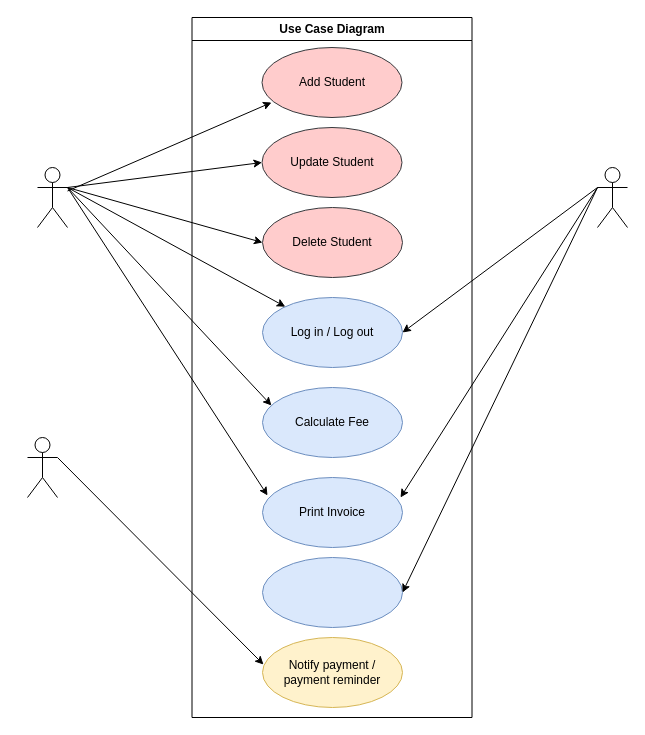
Image size: 645x735. Some labels were removed from this diagram. The centre of each missing label's shape, as x and y in pixels:
"Pay invoice" belongs at point 332,592.
"School Administrator" belongs at point 52,197.
"System" belongs at point 42,467.
"User" belongs at point 612,197.
